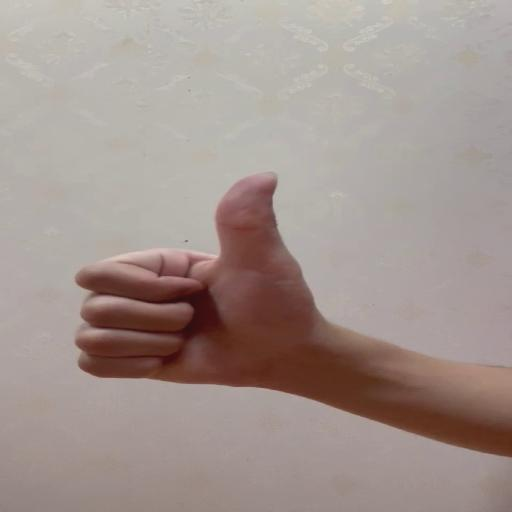thumbs_up: (72, 170, 314, 384)
